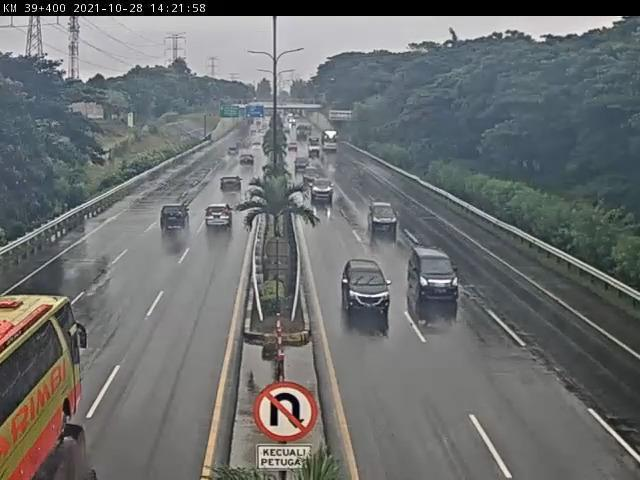bus: (2, 290, 85, 480)
car: (339, 261, 392, 318), (411, 247, 464, 301), (159, 202, 195, 236), (206, 202, 237, 233), (368, 202, 400, 230), (217, 176, 245, 199), (312, 176, 336, 199), (304, 164, 323, 186), (236, 155, 256, 173)
